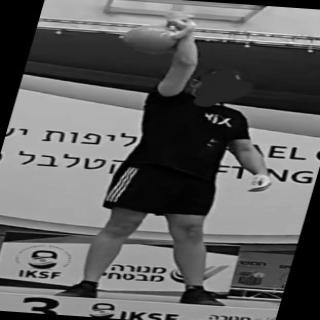kettlebell: (117, 13, 204, 59)
